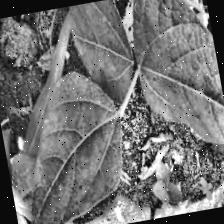ALS: (19, 80, 139, 224), (126, 0, 224, 148)
